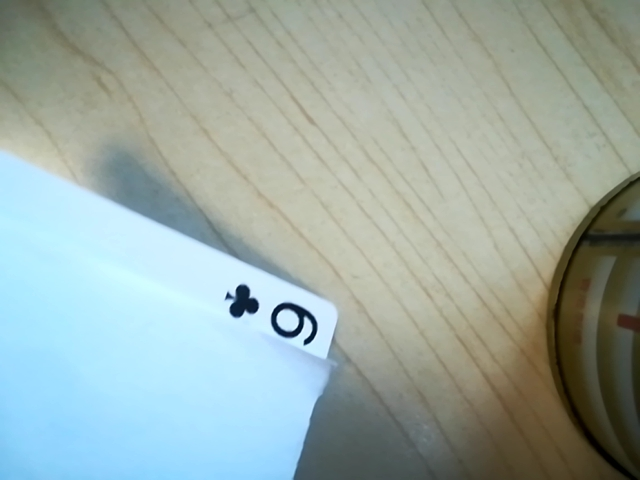mh 6: (211, 278, 337, 355)
